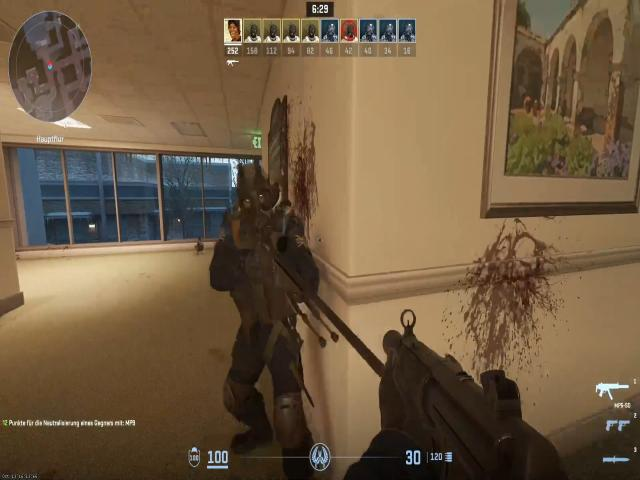CT: (224, 166, 315, 359)
CT-Head: (233, 152, 279, 229)
